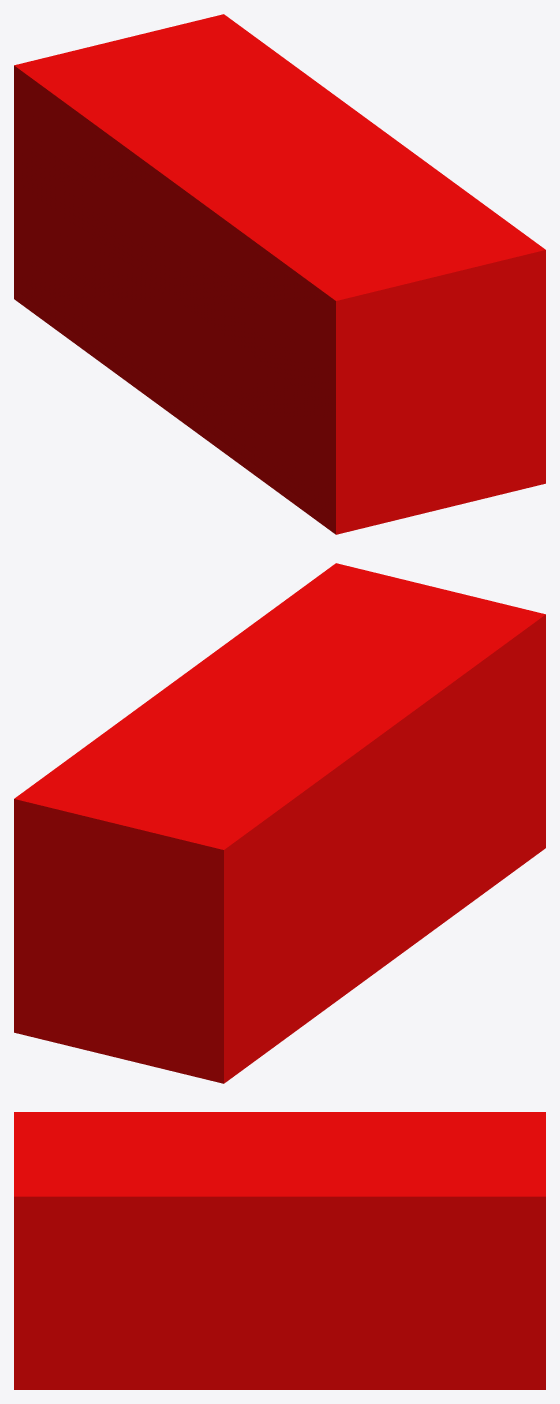
Rendered from fingers6_col.dae.
3 views of the same model, one above another, from view 1: azimuth 30°, elevation 25°; view 2: azimuth 150°, elevation 25°; view 3: azimuth 270°, elevation 25° (orthographic). The views are drawn at different scales.
Parts seen in each view (by area): view 1: node0; view 2: node0; view 3: node0.
Boxes of the visible parts, left/top/right/bottom form: node0: left=14, top=14, right=545, bottom=534; node0: left=14, top=563, right=545, bottom=1083; node0: left=14, top=1112, right=545, bottom=1389.
Size of the model in its own units: 0.0126 by 0.0135 by 0.0336.
